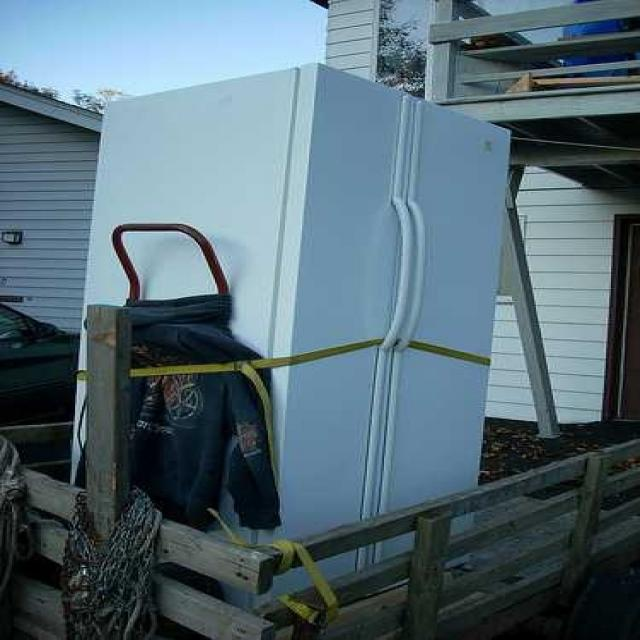refrigerator: (290, 62, 510, 540)
